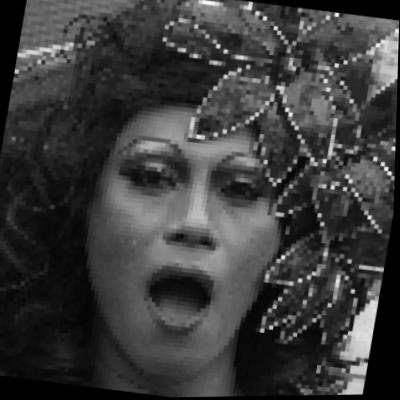surprise: (63, 73, 301, 386)
